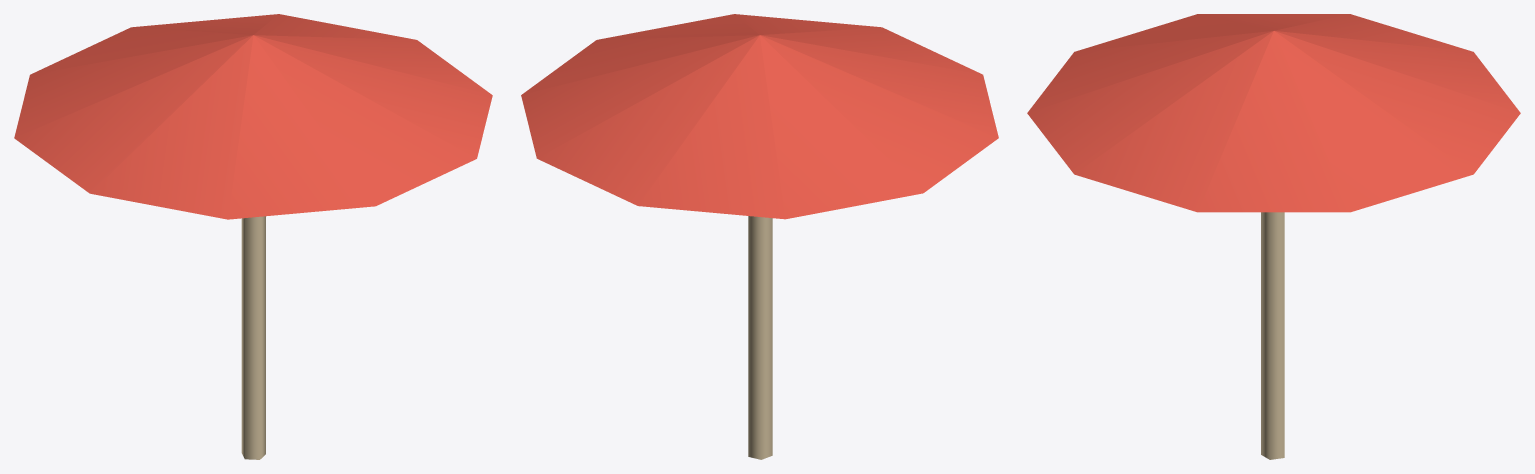
The model's file is umbrella.glb.
The picture shows the model from 3 angles, left to right: view 1: azimuth 30°, elevation 25°; view 2: azimuth 150°, elevation 25°; view 3: azimuth 270°, elevation 25°; orthographic projection.
Visible parts, largest first — view 1: umbrella; view 2: umbrella; view 3: umbrella.
Part boxes in pixels (<box>): umbrella: <box>14,14,492,459</box>; umbrella: <box>521,14,998,459</box>; umbrella: <box>1027,14,1520,459</box>.
Size of the model in its own units: 1.81 by 1.8 by 1.9.
